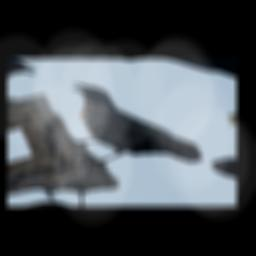Crow: (32, 79, 222, 193)
